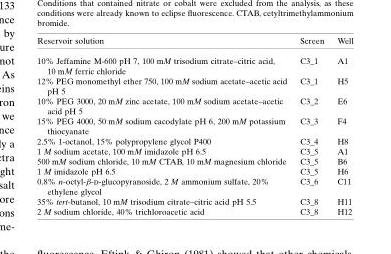table: (36, 36, 352, 215)
table column: (36, 36, 292, 215), (292, 36, 329, 215), (329, 36, 352, 215)
table column header: (36, 36, 352, 50)
table row: (36, 50, 352, 75), (36, 75, 352, 96), (36, 96, 352, 116), (36, 116, 352, 136), (36, 176, 352, 196), (36, 36, 352, 50), (36, 136, 352, 146), (36, 146, 352, 156), (36, 156, 352, 166), (36, 166, 352, 176), (36, 196, 352, 206), (36, 206, 352, 215)
